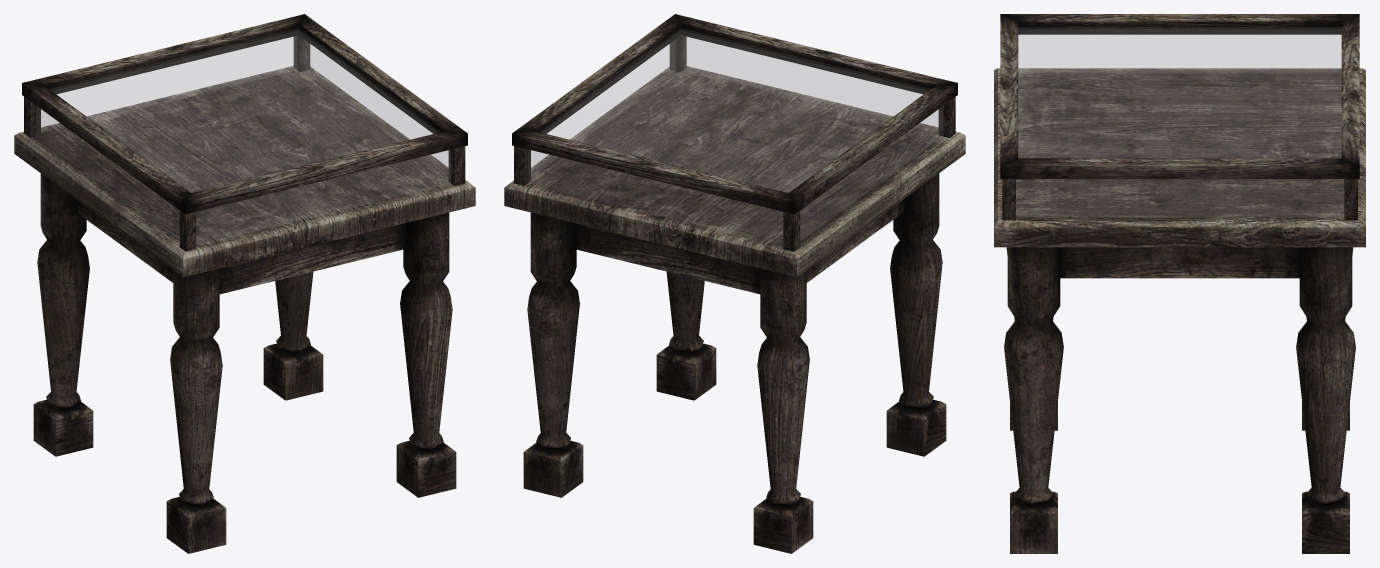
File: display_old.dae
3 renders of one model, left to right at view 1: azimuth 30°, elevation 25°; view 2: azimuth 150°, elevation 25°; view 3: azimuth 270°, elevation 25°, orthographic. The views are drawn at different scales.
Visible parts, largest first — view 1: display, pCube2, pCube1; view 2: display, pCube2, pCube1; view 3: display, pCube2, pCube1.
Boxes of the visible parts, x1,y1,x2,y2 form: display: [14, 14, 475, 553]; pCube2: [41, 36, 448, 176]; pCube1: [41, 36, 448, 175]; display: [504, 14, 965, 553]; pCube2: [531, 36, 938, 177]; pCube1: [531, 36, 938, 175]; display: [994, 14, 1365, 553]; pCube2: [1019, 35, 1340, 73]; pCube1: [1019, 35, 1340, 72].
Size of the model in its own units: 0.8 by 0.931 by 0.8.
